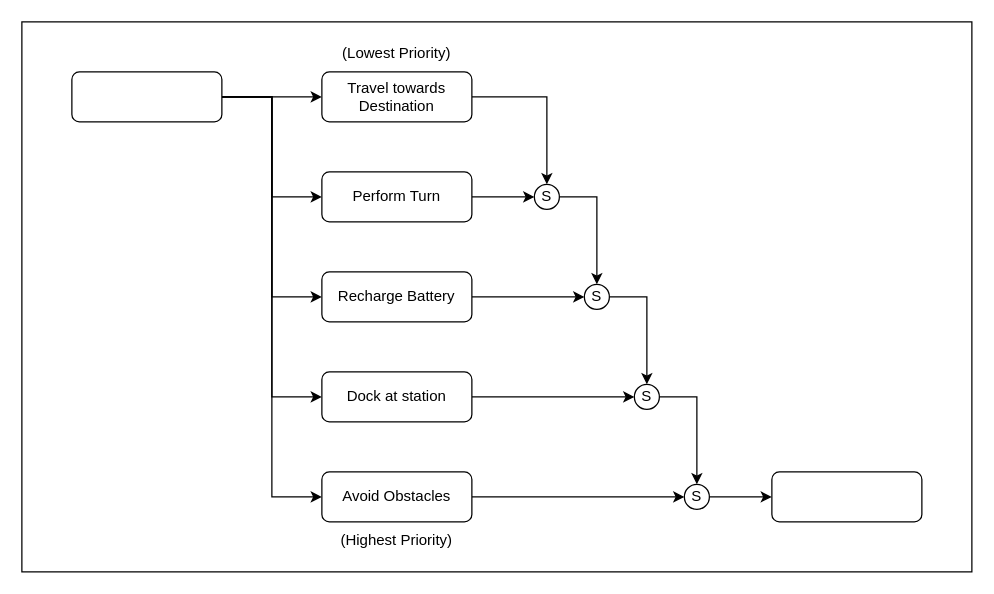
The diagram is 994 pixels wide and 594 high, and some of its shapes have lost their labels. The shapes that lost their labels are listed below. From the top down, each one's centre as x and y in pixels, then its label:
At (x=146, y=96): "Sensors".
At (x=846, y=496): "Captain".
